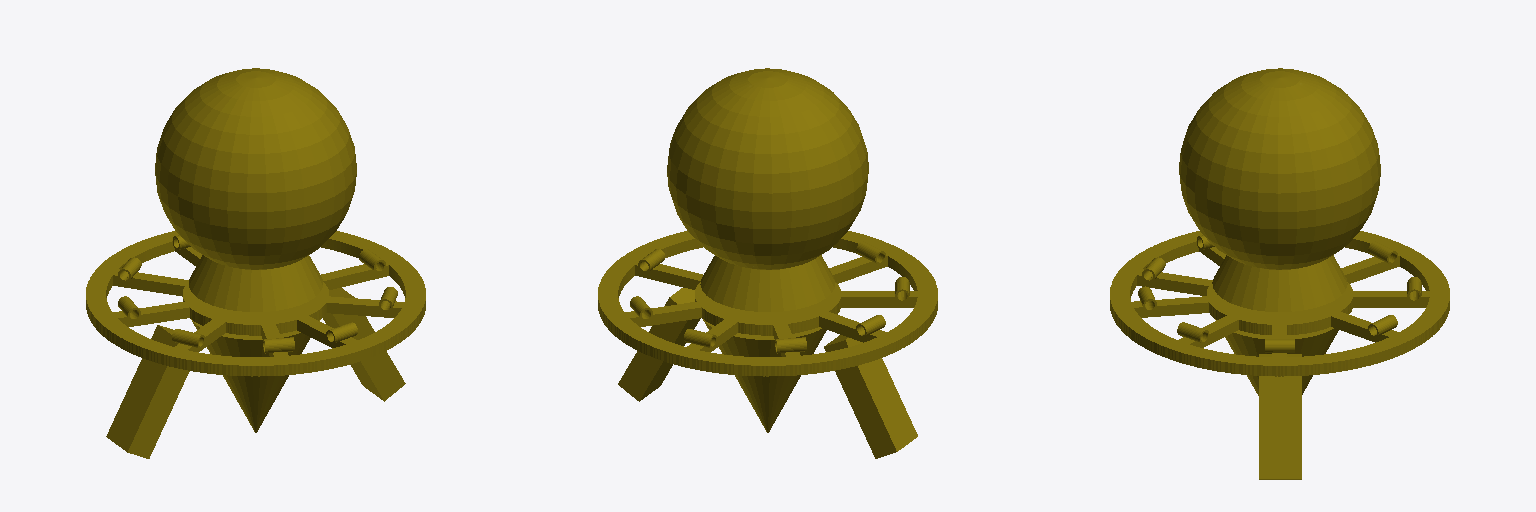
3 renders of one model, left to right at view 1: azimuth 30°, elevation 25°; view 2: azimuth 150°, elevation 25°; view 3: azimuth 270°, elevation 25°, orthographic.
Parts seen in each view (by area): view 1: 円錐.001; view 2: 円錐.001; view 3: 円錐.001.
Boxes of the visible parts, box(x1,y1,x2,y2) form: 円錐.001: box(86, 68, 425, 458); 円錐.001: box(598, 68, 937, 458); 円錐.001: box(1110, 68, 1449, 479).
Size of the model in its own units: 3.36 by 3.88 by 3.36.
1 materials, 1 textured.